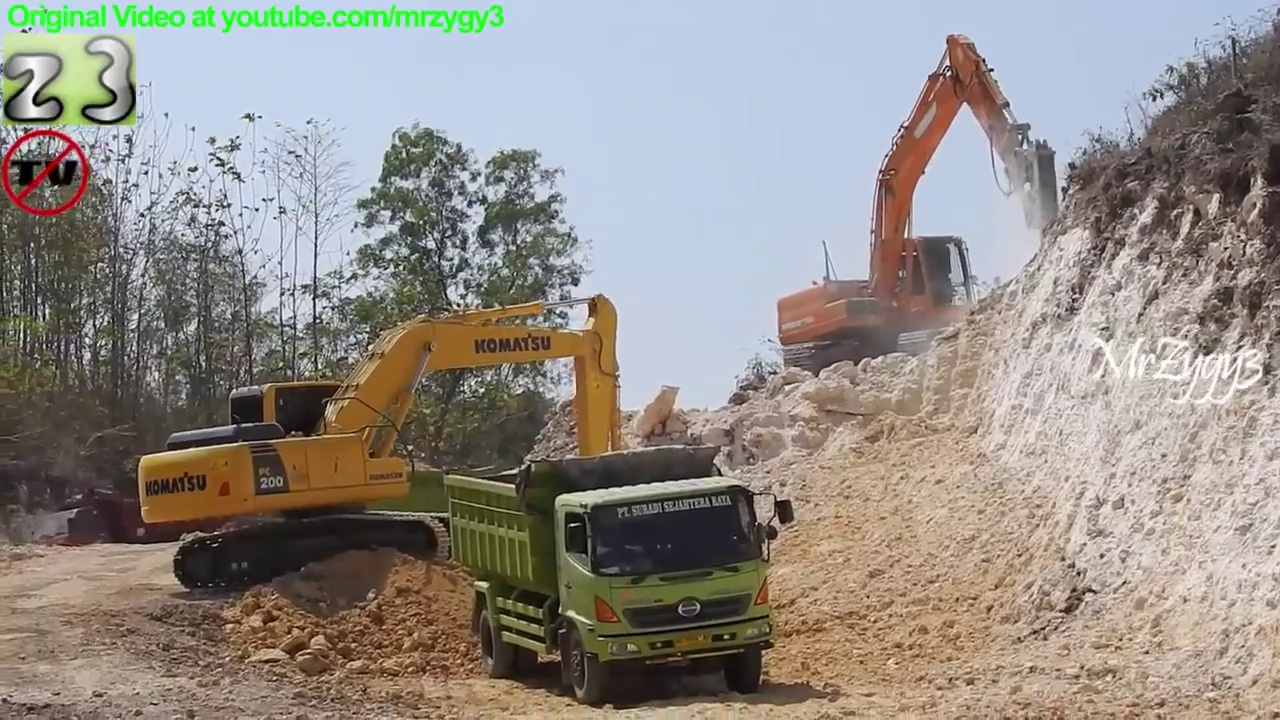excavator: (138, 288, 640, 603), (772, 33, 1071, 386)
truck: (443, 438, 803, 705)
